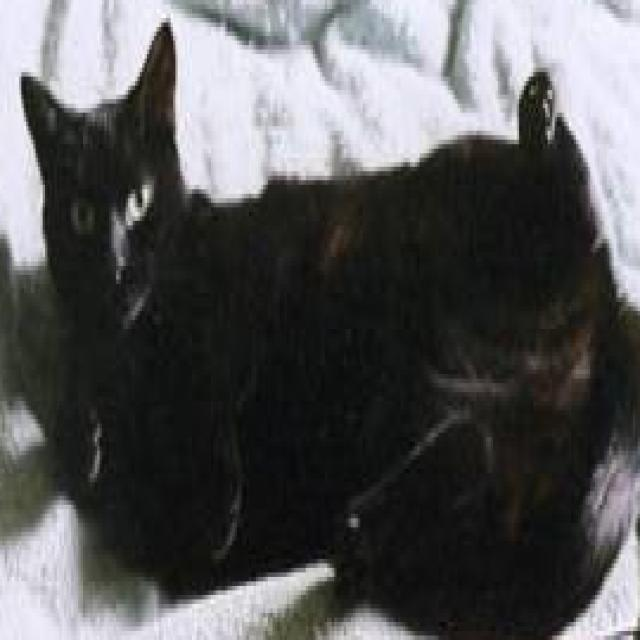Bombay: (14, 13, 640, 640)
